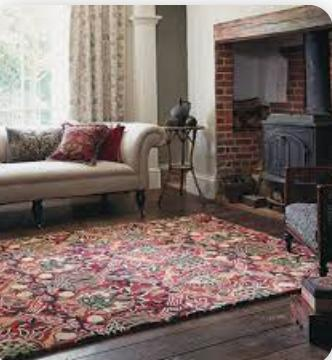carpet: (0, 174, 322, 360)
